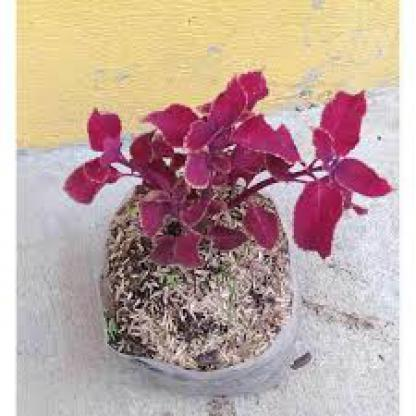Bunga Coleus: (53, 77, 382, 238)
